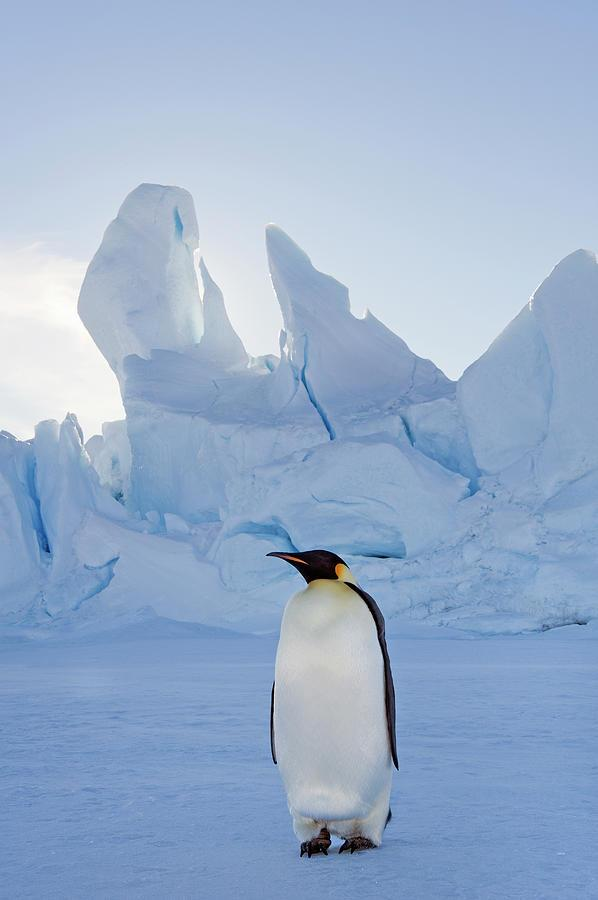emporer: (247, 530, 432, 860)
